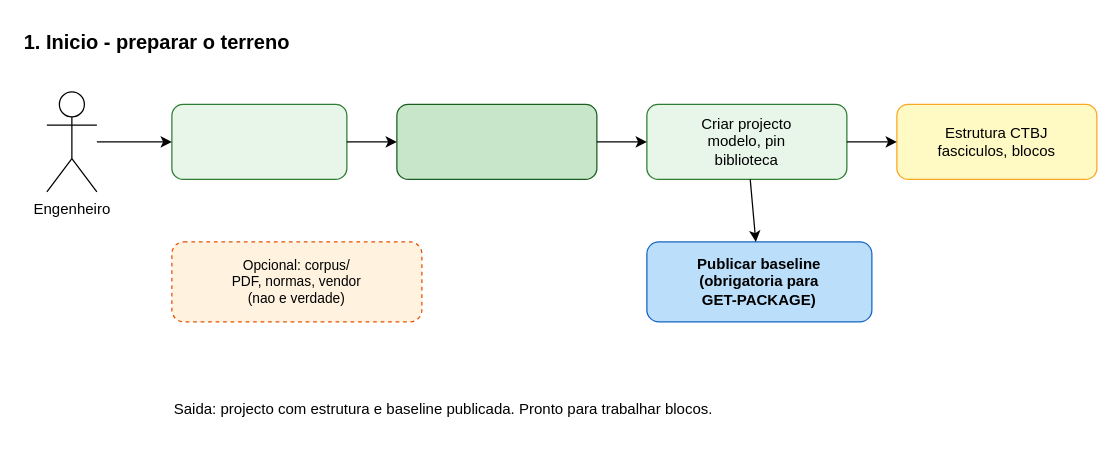
This 1119x463 diagram has some shape labels left out. Here are the shapes that lost their labels. From the top down, the centre of each, then its label:
At point (259, 141): "Abrir ou criar workspace (get.db)".
At point (496, 141): "Biblioteca EDA KnowledgeItem (semente)".
